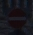No entry: (6, 6, 28, 30)
